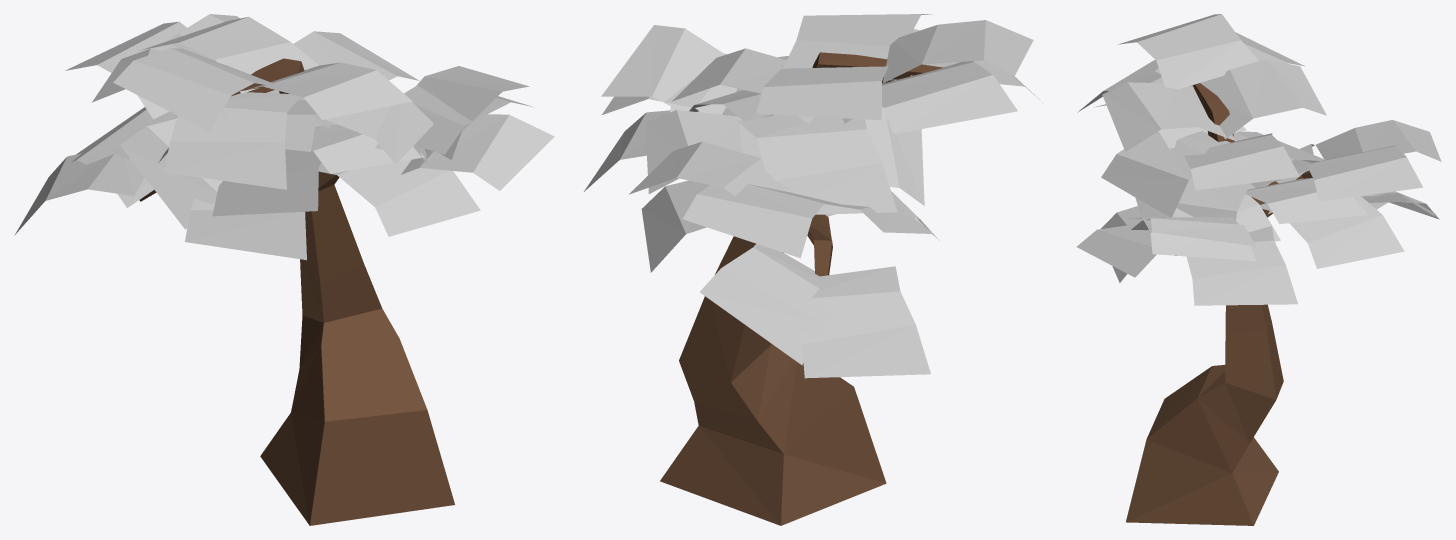
The model's file is tree.dae.
3 renders of one model, left to right at view 1: azimuth 30°, elevation 25°; view 2: azimuth 150°, elevation 25°; view 3: azimuth 270°, elevation 25°, orthographic. The views are drawn at different scales.
Visible parts, largest first — view 1: Cube, TreeLeavesBigger2.010, TreeLeavesBigger2.009, TreeLeavesBigger2.020, TreeLeavesBigger2.016, TreeLeavesBigger2.024, TreeLeavesBigger2.022, TreeLeavesBigger2.028, TreeLeavesBigger2.019, TreeLeavesBigger2.025, TreeLeavesBigger2.006, TreeLeavesBigger2.002 (+9 smaller); view 2: Cube, TreeLeavesBigger2.006, TreeLeavesBigger2.011, TreeLeavesBigger2.005, TreeLeavesBigger2.008, TreeLeavesBigger2.003, TreeLeavesBigger2.028, TreeLeavesBigger2.009, TreeLeavesBigger2.002, TreeLeavesBigger2.022, TreeLeavesBigger2.004, TreeLeavesBigger2.013 (+8 smaller); view 3: Cube, TreeLeavesBigger2.009, TreeLeavesBigger2.001, TreeLeavesBigger2.021, TreeLeavesBigger2.028, TreeLeavesBigger2.022, TreeLeavesBigger2.014, TreeLeavesBigger2.004, TreeLeavesBigger2.027, TreeLeavesBigger2.013, TreeLeavesBigger2.003, TreeLeavesBigger2.016 (+12 smaller).
Part boxes in pixels (x1,y1,x2,y2): Cube: (139,58,454,525); TreeLeavesBigger2.010: (164,92,300,189); TreeLeavesBigger2.009: (113,48,279,131); TreeLeavesBigger2.020: (318,159,480,236); TreeLeavesBigger2.016: (401,114,554,190); TreeLeavesBigger2.024: (185,198,306,260); TreeLeavesBigger2.022: (245,62,412,119); TreeLeavesBigger2.028: (140,16,318,93); TreeLeavesBigger2.019: (212,149,321,216); TreeLeavesBigger2.025: (120,118,222,229); TreeLeavesBigger2.006: (14,153,144,235); TreeLeavesBigger2.002: (416,66,529,159); Cube: (660,52,943,525); TreeLeavesBigger2.006: (799,266,930,378); TreeLeavesBigger2.011: (737,115,897,214); TreeLeavesBigger2.005: (700,244,831,365); TreeLeavesBigger2.008: (882,61,1017,134); TreeLeavesBigger2.003: (682,184,846,258); TreeLeavesBigger2.028: (756,66,888,120); TreeLeavesBigger2.009: (882,20,1033,83); TreeLeavesBigger2.002: (601,25,724,112); TreeLeavesBigger2.022: (783,14,932,80); TreeLeavesBigger2.004: (629,141,790,195); TreeLeavesBigger2.013: (645,110,761,193); Cube: (1126,83,1312,525); TreeLeavesBigger2.009: (1118,14,1258,89); TreeLeavesBigger2.001: (1186,226,1297,305); TreeLeavesBigger2.021: (1101,131,1230,217); TreeLeavesBigger2.028: (1190,59,1326,139); TreeLeavesBigger2.022: (1102,82,1236,151); TreeLeavesBigger2.014: (1260,196,1404,268); TreeLeavesBigger2.004: (1300,145,1423,201); TreeLeavesBigger2.027: (1184,133,1299,190); TreeLeavesBigger2.013: (1245,178,1368,224); TreeLeavesBigger2.003: (1315,120,1441,161); TreeLeavesBigger2.016: (1076,224,1156,277).
Size of the model in its own units: 3.72 by 3.39 by 4.08.
